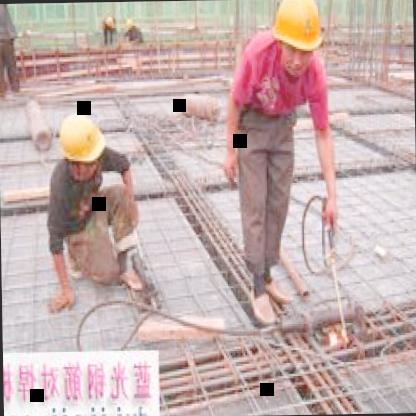helmet: (265, 0, 328, 75), (54, 108, 108, 180)
